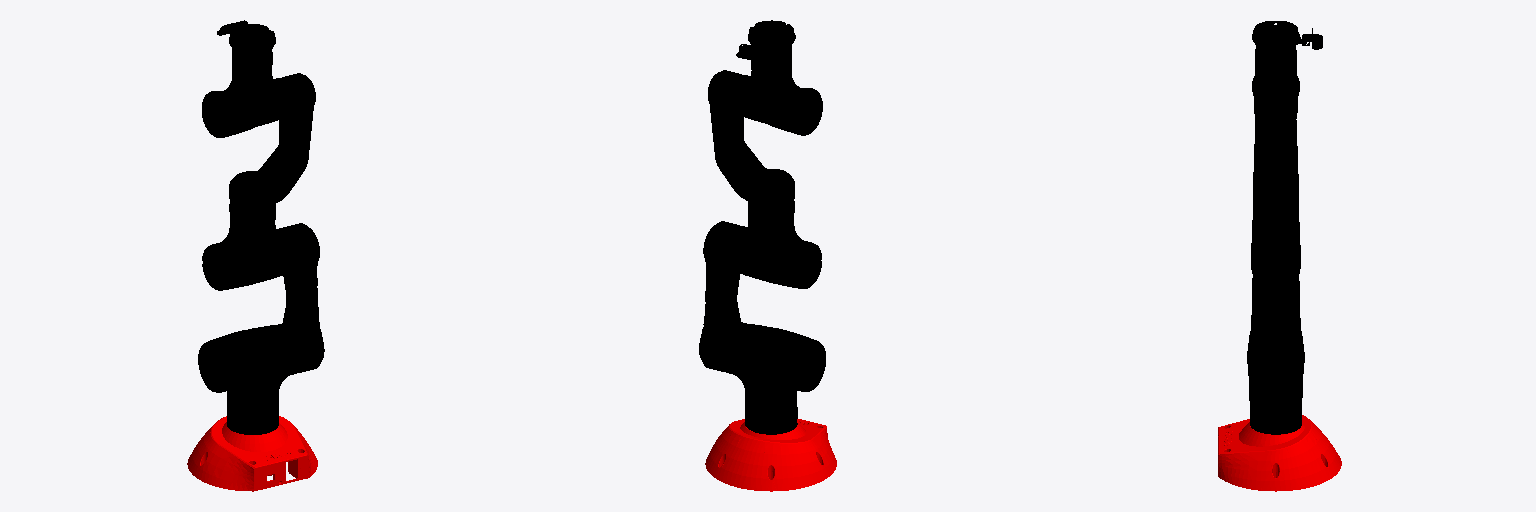
URDF robot description (mara):
<?xml version="1.0" ?>
<!-- =================================================================================== -->
<!-- |    This document was autogenerated by xacro from src/mara/mara_description/urdf/reinforcement_learning/mara_robot_camera_run.urdf.xacro | -->
<!-- |    EDITING THIS FILE BY HAND IS NOT RECOMMENDED                                 | -->
<!-- =================================================================================== -->
<robot name="mara" xmlns:xacro="http://ros.org/wiki/xacro">
  <link name="motor1_link">
    <inertial>
      <origin rpy="0 0 0" xyz="0.02066 0 0.12051"/>
      <mass value="5.6"/>
      <inertia ixx="0.0200769278" ixy="-7.72273E-006" ixz="0.0050158708" iyy="0.0257088151" iyz="5.49229E-006" izz="0.0120821377"/>
    </inertial>
    <visual>
      <origin rpy="0 0 0" xyz="0 0 0"/>
      <geometry>
        <mesh filename="package://mara_description/meshes/MARA_T49.dae" scale="0.001 0.001 0.001"/>
      </geometry>
      <material name="Gazebo/White">
        <color rgba="0. 0. 0. 1"/>
      </material>
    </visual>
    <collision>
      <origin rpy="0 0 0" xyz="0 0 0"/>
      <geometry>
        <mesh filename="package://mara_description/meshes/MARA_T49.dae" scale="0.001 0.001 0.001"/>
      </geometry>
    </collision>
  </link>
  <gazebo reference="motor1_link">
    <material>Gazebo/White</material>
    <selfCollide>True</selfCollide>
  </gazebo>
  <link name="motor1_cover">
    <inertial>
      <origin rpy="0 0 0" xyz="8.625E-08 -4.6583E-06 0.03145"/>
      <mass value="0.0"/>
      <inertia ixx="0.0" ixy="0.0" ixz="0.0" iyy="0.0" iyz="0.0" izz="0.0"/>
    </inertial>
    <visual>
      <origin rpy="0 0 0" xyz="0 0 0"/>
      <geometry>
        <mesh filename="package://mara_description/meshes/MARA_T49_Black.dae" scale="0.001 0.001 0.001"/>
      </geometry>
      <material name="Gazebo/Black">
        <color rgba="0. 0. 0. 1"/>
      </material>
    </visual>
    <collision>
      <origin rpy="0 0 0" xyz="0 0 0"/>
      <geometry>
        <mesh filename="package://mara_description/meshes/MARA_T49_Black.dae" scale="0.001 0.001 0.001"/>
      </geometry>
    </collision>
  </link>
  <gazebo reference="motor1_cover">
    <material>Gazebo/Black</material>
    <selfCollide>True</selfCollide>
  </gazebo>
  <link name="motor2_link">
    <inertial>
      <origin rpy="0 0 0" xyz="-0.01665 0.0 0.09639"/>
      <mass value="1.236"/>
      <inertia ixx="0.0079614839" ixy="0.000000037" ixz="-0.0003203013" iyy="0.007135338" iyz="-0.000001062" izz="0.001111114"/>
    </inertial>
    <visual>
      <origin rpy="0 0 0" xyz="0 0 0"/>
      <geometry>
        <mesh filename="package://mara_description/meshes/MARA_Link1.dae" scale="0.001 0.001 0.001"/>
      </geometry>
      <material name="Gazebo/Black">
        <color rgba="0. 0. 0. 1"/>
      </material>
    </visual>
    <collision>
      <origin rpy="0 0 0" xyz="0 0 0"/>
      <geometry>
        <mesh filename="package://mara_description/meshes/MARA_Link1.dae" scale="0.001 0.001 0.001"/>
      </geometry>
    </collision>
  </link>
  <gazebo reference="motor2_link">
    <material>Gazebo/Black</material>
    <selfCollide>True</selfCollide>
  </gazebo>
  <link name="motor3_link">
    <inertial>
      <origin rpy="0 0 0" xyz="-0.08963 0.0 0.0403"/>
      <mass value="3.95"/>
      <inertia ixx="0.0115136615" ixy="-1.231046E-005" ixz="-0.003148516" iyy="0.0149841676" iyz="-8.81378E-006" izz="0.0070387807"/>
    </inertial>
    <visual>
      <origin rpy="0 0 0" xyz="0 0 0"/>
      <geometry>
        <mesh filename="package://mara_description/meshes/MARA_T30.dae" scale="0.001 0.001 0.001"/>
      </geometry>
      <material name="Gazebo/White">
        <color rgba="0. 0. 0. 1"/>
      </material>
    </visual>
    <collision>
      <origin rpy="0 0 0" xyz="0 0 0"/>
      <geometry>
        <mesh filename="package://mara_description/meshes/MARA_T30.dae" scale="0.001 0.001 0.001"/>
      </geometry>
    </collision>
  </link>
  <gazebo reference="motor3_link">
    <material>Gazebo/White</material>
    <selfCollide>True</selfCollide>
  </gazebo>
  <link name="motor3_cover">
    <inertial>
      <origin rpy="0 0 0" xyz="8.625E-08 -4.6583E-06 0.03145"/>
      <mass value="0.0"/>
      <inertia ixx="0.0" ixy="0.0" ixz="0.0" iyy="0.0" iyz="0.0" izz="0.0"/>
    </inertial>
    <visual>
      <origin rpy="0 0 0" xyz="0 0 0"/>
      <geometry>
        <mesh filename="package://mara_description/meshes/MARA_T30_Black.dae" scale="0.001 0.001 0.001"/>
      </geometry>
      <material name="Gazebo/Black">
        <color rgba="0. 0. 0. 1"/>
      </material>
    </visual>
    <collision>
      <origin rpy="0 0 0" xyz="0 0 0"/>
      <geometry>
        <mesh filename="package://mara_description/meshes/MARA_T30_Black.dae" scale="0.001 0.001 0.001"/>
      </geometry>
    </collision>
  </link>
  <gazebo reference="motor3_cover">
    <material>Gazebo/Black</material>
    <selfCollide>True</selfCollide>
  </gazebo>
  <link name="motor4_link">
    <inertial>
      <origin rpy="0 0 0" xyz="0.06357 0.0 0.05698"/>
      <mass value="1.258"/>
      <inertia ixx="0.005919676" ixy="0.000000923" ixz="0.0022280208" iyy="0.0068807393" iyz="6.1373E-007" izz="0.00257485"/>
    </inertial>
    <visual>
      <origin rpy="0 0 0" xyz="0 0 0"/>
      <geometry>
        <mesh filename="package://mara_description/meshes/MARA_Link2.dae" scale="0.001 0.001 0.001"/>
      </geometry>
      <material name="Gazebo/Black">
        <color rgba="0. 0. 0. 1"/>
      </material>
    </visual>
    <collision>
      <origin rpy="0 0 0" xyz="0 0 0"/>
      <geometry>
        <mesh filename="package://mara_description/meshes/MARA_Link2.dae" scale="0.001 0.001 0.001"/>
      </geometry>
    </collision>
  </link>
  <gazebo reference="motor4_link">
    <material>Gazebo/Black</material>
    <selfCollide>True</selfCollide>
  </gazebo>
  <link name="motor5_link">
    <inertial>
      <origin rpy="0 0 0" xyz="-0.09105 0.0 0.03676"/>
      <mass value="2.85"/>
      <inertia ixx="0.0072829492" ixy="3.77994E-006" ixz="-0.0015682105" iyy="0.0098263499" iyz="2.52745E-006" izz="0.0045615321"/>
    </inertial>
    <visual>
      <origin rpy="0 0 0" xyz="0 0 0"/>
      <geometry>
        <mesh filename="package://mara_description/meshes/MARA_T5.4.dae" scale="0.001 0.001 0.001"/>
      </geometry>
      <material name="Gazebo/White">
        <color rgba="0. 0. 0. 1"/>
      </material>
    </visual>
    <collision>
      <origin rpy="0 0 0" xyz="0 0 0"/>
      <geometry>
        <mesh filename="package://mara_description/meshes/MARA_T5.4.dae" scale="0.001 0.001 0.001"/>
      </geometry>
    </collision>
  </link>
  <gazebo reference="motor5_link">
    <material>Gazebo/White</material>
    <selfCollide>True</selfCollide>
  </gazebo>
  <link name="motor5_cover">
    <inertial>
      <origin rpy="0 0 0" xyz="8.625E-08 -4.6583E-06 0.03145"/>
      <mass value="0.0"/>
      <inertia ixx="0.0" ixy="0.0" ixz="0.0" iyy="0.0" iyz="0.0" izz="0.0"/>
    </inertial>
    <visual>
      <origin rpy="0 0 0" xyz="0 0 0"/>
      <geometry>
        <mesh filename="package://mara_description/meshes/MARA_T5.4_black.dae" scale="0.001 0.001 0.001"/>
      </geometry>
      <material name="Gazebo/Black">
        <color rgba="0. 0. 0. 1"/>
      </material>
    </visual>
    <collision>
      <origin rpy="0 0 0" xyz="0 0 0"/>
      <geometry>
        <mesh filename="package://mara_description/meshes/MARA_T5.4_black.dae" scale="0.001 0.001 0.001"/>
      </geometry>
    </collision>
  </link>
  <gazebo reference="motor5_cover">
    <material>Gazebo/Black</material>
    <selfCollide>True</selfCollide>
  </gazebo>
  <link name="motor6_link">
    <inertial>
      <origin rpy="0 0 0" xyz="0 0 0"/>
      <mass value="0.00001"/>
      <inertia ixx="0" ixy="0" ixz="0" iyy="0" iyz="0" izz="0"/>
    </inertial>
    <visual>
      <origin rpy="0 0 0" xyz="0 0 0"/>
      <geometry>
        <sphere radius="0"/>
      </geometry>
    </visual>
    <collision>
      <origin rpy="0 0 0" xyz="0 0 0"/>
      <geometry>
        <sphere radius="0"/>
      </geometry>
    </collision>
  </link>
  <link name="ee_link">
    <!-- <visual>
        <geometry>
          <sphere radius="0.01"/>
        </geometry>
        <material name="Gazebo/Grey">
          <color rgba="0. 0. 0. 1"/>
        </material>
      </visual> -->
  </link>
  <gazebo reference="ee_link">
    <material>Gazebo/Blue</material>
    <selfCollide>False</selfCollide>
  </gazebo>
  <joint name="motor1_cover_joint" type="fixed">
    <origin rpy="0 0 0" xyz="0 0 0.0"/>
    <parent link="motor1_link"/>
    <child link="motor1_cover"/>
  </joint>
  <joint name="motor2" type="revolute">
    <origin rpy="0 0 0" xyz="0.118 0 0.1637"/>
    <parent link="motor1_link"/>
    <child link="motor2_link"/>
    <axis xyz="1 0 0"/>
    <limit effort="104.0" lower="-2.35" upper="2.35" velocity="1.57"/>
    <dynamics damping="0" friction="0"/>
  </joint>
  <joint name="motor3" type="revolute">
    <origin rpy="0 0 0" xyz="-0.009 0 0.2"/>
    <parent link="motor2_link"/>
    <child link="motor3_link"/>
    <axis xyz="-1 0 0"/>
    <limit effort="69" lower="-2.61" upper="2.61" velocity="1.57"/>
    <dynamics damping="0" friction="0"/>
  </joint>
  <joint name="motor3_cover_joint" type="fixed">
    <origin rpy="0 0 0" xyz="0 0 0.0"/>
    <parent link="motor3_link"/>
    <child link="motor3_cover"/>
  </joint>
  <joint name="motor4" type="revolute">
    <origin rpy="0 0 0" xyz="-0.109255 0 0.149255"/>
    <parent link="motor3_link"/>
    <child link="motor4_link"/>
    <axis xyz="0 0 1"/>
    <limit effort="69" lower="-3.14" upper="3.14" velocity="1.57"/>
    <dynamics damping="0" friction="0"/>
  </joint>
  <joint name="motor5" type="revolute">
    <origin rpy="0 0 0" xyz="0.1054570 0 0.16074"/>
    <parent link="motor4_link"/>
    <child link="motor5_link"/>
    <axis xyz="-1 0 0"/>
    <limit effort="34" lower="-2.56" upper="2.56" velocity="1.57"/>
    <dynamics damping="0" friction="0"/>
  </joint>
  <joint name="motor5_cover_joint" type="fixed">
    <origin rpy="0 0 0" xyz="0 0 0.0"/>
    <parent link="motor5_link"/>
    <child link="motor5_cover"/>
  </joint>
  <joint name="motor6" type="revolute">
    <origin rpy="0 0 0" xyz="-0.10625569 0 0.14675569"/>
    <parent link="motor5_link"/>
    <child link="motor6_link"/>
    <axis xyz="0 0 1"/>
    <limit effort="34" lower="-3.14" upper="3.14" velocity="1.57"/>
    <dynamics damping="0" friction="0"/>
  </joint>
  <joint name="ee_link" type="fixed">
    <origin rpy="0 -1.57 0" xyz="0 0.0 0.0"/>
    <!-- 0.24 -->
    <parent link="motor6_link"/>
    <child link="ee_link"/>
  </joint>
  <link name="tool0"/>
  <joint name="motor6_link-tool0_fixed_joint" type="fixed">
    <origin rpy="0 -1.57 0" xyz="0 0.0 0.0"/>
    <parent link="motor6_link"/>
    <child link="tool0"/>
  </joint>
  <transmission name="shoulder_pan_trans">
    <type>transmission_interface/SimpleTransmission</type>
    <joint name="motor1">
      <hardwareInterface>hardware_interface/PositionJointInterface</hardwareInterface>
    </joint>
    <actuator name="shoulder_pan_motor">
      <mechanicalReduction>1</mechanicalReduction>
    </actuator>
  </transmission>
  <transmission name="shoulder_lift_trans">
    <type>transmission_interface/SimpleTransmission</type>
    <joint name="motor2">
      <hardwareInterface>hardware_interface/PositionJointInterface</hardwareInterface>
    </joint>
    <actuator name="shoulder_lift_motor">
      <mechanicalReduction>1</mechanicalReduction>
    </actuator>
  </transmission>
  <transmission name="elbow_trans">
    <type>transmission_interface/SimpleTransmission</type>
    <joint name="motor3">
      <hardwareInterface>hardware_interface/PositionJointInterface</hardwareInterface>
    </joint>
    <actuator name="elbow_motor">
      <mechanicalReduction>1</mechanicalReduction>
    </actuator>
  </transmission>
  <transmission name="wrist_1_trans">
    <type>transmission_interface/SimpleTransmission</type>
    <joint name="motor4">
      <hardwareInterface>hardware_interface/PositionJointInterface</hardwareInterface>
    </joint>
    <actuator name="wrist_1_motor">
      <mechanicalReduction>1</mechanicalReduction>
    </actuator>
  </transmission>
  <transmission name="wrist_2_trans">
    <type>transmission_interface/SimpleTransmission</type>
    <joint name="motor5">
      <hardwareInterface>hardware_interface/PositionJointInterface</hardwareInterface>
    </joint>
    <actuator name="wrist_2_motor">
      <mechanicalReduction>1</mechanicalReduction>
    </actuator>
  </transmission>
  <transmission name="wrist_3_trans">
    <type>transmission_interface/SimpleTransmission</type>
    <joint name="motor6">
      <hardwareInterface>hardware_interface/PositionJointInterface</hardwareInterface>
    </joint>
    <actuator name="wrist_3_motor">
      <mechanicalReduction>1</mechanicalReduction>
    </actuator>
  </transmission>
  <gazebo>
    <plugin filename="libgazebo_ros_joint_state_publisher.so" name="mara_joint_state">
      <ros>
        <argument>~/out:=joint_states</argument>
      </ros>
      <update_rate>25</update_rate>
      <joint_name>motor1</joint_name>
      <joint_name>motor2</joint_name>
      <joint_name>motor3</joint_name>
      <joint_name>motor4</joint_name>
      <joint_name>motor5</joint_name>
      <joint_name>motor6</joint_name>
      <joint_name>joint_finger</joint_name>
    </plugin>
    <plugin filename="libmara_gazebo_joint_plugin.so" name="hrim_actuation_servomotor_000000000001">
      <ros/>
      <axis1>motor2</axis1>
      <axis2>motor1</axis2>
      <type>series14</type>
    </plugin>
    <plugin filename="libmara_gazebo_joint_plugin.so" name="hrim_actuation_servomotor_000000000002">
      <ros/>
      <axis1>motor3</axis1>
      <axis2>motor4</axis2>
      <type>series17</type>
    </plugin>
    <plugin filename="libmara_gazebo_joint_plugin.so" name="hrim_actuation_servomotor_000000000003">
      <ros/>
      <axis1>motor5</axis1>
      <axis2>motor6</axis2>
      <type>series20</type>
    </plugin>
  </gazebo>
  <link name="mara_gripper_adapter">
    <inertial>
      <origin rpy="0 0 0" xyz="8.625E-08 -4.6583E-06 0.03145"/>
      <mass value="0.13969"/>
      <inertia ixx="91283.23E-9" ixy="634.87E-9" ixz="-0.02E-9" iyy="97239.94E-9" iyz="93.72E-9" izz="175963.64E-9"/>
    </inertial>
    <visual>
      <origin rpy="0 0 0" xyz="0 0 0"/>
      <geometry>
        <mesh filename="package://mara_description/meshes/gripper_adapter.dae" scale="0.001 0.001 0.001"/>
      </geometry>
      <material name="Gazebo/Wood">
        <color rgba="0. 0. 0. 1"/>
      </material>
    </visual>
    <collision>
      <origin rpy="0 0 0" xyz="0 0 0"/>
      <geometry>
        <mesh filename="package://mara_description/meshes/gripper_adapter.dae" scale="0.001 0.001 0.001"/>
      </geometry>
    </collision>
  </link>
  <gazebo reference="mara_gripper_adapter">
    <material>Gazebo/Black</material>
    <selfCollide>True</selfCollide>
  </gazebo>
  <link name="mara_camera_support1_link">
    <inertial>
      <origin rpy="0 0 0" xyz="8.625E-08 -4.6583E-06 0.03145"/>
      <mass value="0.00361"/>
      <inertia ixx="266.47E-9" ixy="0.0" ixz="0.0" iyy="115.40E-9" iyz="-0.40E-9" izz="233.53E-9"/>
    </inertial>
    <visual>
      <origin rpy="0 0 0" xyz="0 0 0"/>
      <geometry>
        <mesh filename="package://mara_description/meshes/Camera_Support_1.dae" scale="0.001 0.001 0.001"/>
      </geometry>
      <material name="Gazebo/Wood">
        <color rgba="0. 0. 0. 1"/>
      </material>
    </visual>
    <collision>
      <origin rpy="0 0 0" xyz="0 0 0"/>
      <geometry>
        <mesh filename="package://mara_description/meshes/Camera_Support_1.dae" scale="0.001 0.001 0.001"/>
      </geometry>
    </collision>
  </link>
  <gazebo reference="mara_camera_support1_link">
    <material>Gazebo/Black</material>
    <selfCollide>True</selfCollide>
  </gazebo>
  <link name="mara_camera_support2_link">
    <inertial>
      <origin rpy="0 0 0" xyz="8.625E-08 -4.6583E-06 0.03145"/>
      <mass value="0.00676"/>
      <inertia ixx="584.80E-9" ixy="28.57E-9" ixz="-2.42E-9" iyy="1930.29E-9" iyz="-140.62E-9" izz="2077.50E-9"/>
    </inertial>
    <visual>
      <origin rpy="0 0 0" xyz="0 0 0"/>
      <geometry>
        <mesh filename="package://mara_description/meshes/Camera_Support_2.dae" scale="0.001 0.001 0.001"/>
      </geometry>
      <material name="Gazebo/Wood">
        <color rgba="0. 0. 0. 1"/>
      </material>
    </visual>
    <collision>
      <origin rpy="0 0 0" xyz="0 0 0"/>
      <geometry>
        <mesh filename="package://mara_description/meshes/Camera_Support_2.dae" scale="0.001 0.001 0.001"/>
      </geometry>
    </collision>
  </link>
  <gazebo reference="mara_camera_support2_link">
    <material>Gazebo/Black</material>
    <selfCollide>True</selfCollide>
  </gazebo>
  <joint name="gripper_adapter_to_camera_support1" type="fixed">
    <origin rpy="0 0 0" xyz="0 0.03956 -0.00213"/>
    <parent link="mara_gripper_adapter"/>
    <child link="mara_camera_support1_link"/>
  </joint>
  <joint name="camera_support1_to_support2" type="fixed">
    <origin rpy="0 0 0" xyz="0 0.01029 -0.00128"/>
    <parent link="mara_camera_support1_link"/>
    <child link="mara_camera_support2_link"/>
  </joint>
  <link name="camera_link">
    <inertial>
      <origin rpy="0 0 0" xyz="8.625E-08 -4.6583E-06 0.03145"/>
      <mass value="0.07397"/>
      <inertia ixx="6975.32E-9" ixy="287.18E-9" ixz="25.68E-9" iyy="47975.37E-9" iyz="-25.58E-9" izz="48114.25E-9"/>
    </inertial>
    <visual>
      <origin rpy="0 0 0" xyz="0 0 0"/>
      <geometry>
        <mesh filename="package://mara_description/meshes/Intel_RealSense_Depth_Camera_D435.dae" scale="0.001 0.001 0.001"/>
      </geometry>
      <material name="aluminum">
        <color rgba="0.5 0.5 0.5 1"/>
      </material>
    </visual>
    <collision>
      <origin rpy="0 0 0" xyz="0 0 0"/>
      <geometry>
        <mesh filename="package://mara_description/meshes/Intel_RealSense_Depth_Camera_D435.dae" scale="0.001 0.001 0.001"/>
      </geometry>
    </collision>
  </link>
  <gazebo reference="camera_link">
    <material>Gazebo/Grey</material>
    <selfCollide>True</selfCollide>
  </gazebo>
  <link name="camera_right_depth"/>
  <link name="camera_ir_projector"/>
  <link name="camera_left_depth"/>
  <link name="camera_color"/>
  <gazebo reference="camera_color">
    <sensor name="sensor_camera" type="camera">
      <alwaysOn>true</alwaysOn>
      <!-- <visualize>true</visualize> -->
      <camera>
        <image>
          <width>640</width>
          <height>480</height>
          <format>R8G8B8</format>
        </image>
      </camera>
      <plugin filename="libgazebo_ros_camera.so" name="gazebo_plugins">
        <ros>
          <namespace>rs_camera</namespace>
          <argument>image_raw:=custom_img</argument>
          <argument>camera_info:=custom_info</argument>
        </ros>
        <camera_name>rs_d435</camera_name>
        <frame_name>rs_camera_frame</frame_name>
        <hack_baseline>0.07</hack_baseline>
      </plugin>
    </sensor>
  </gazebo>
  <joint name="camera_to_right_depth" type="fixed">
    <origin rpy="0 0 0" xyz="0.0325 0.024 0.0"/>
    <parent link="camera_link"/>
    <child link="camera_right_depth"/>
  </joint>
  <joint name="camera_to_ir_projector" type="fixed">
    <origin rpy="0 0 0" xyz="0.0115 0.0214 0.0"/>
    <parent link="camera_link"/>
    <child link="camera_ir_projector"/>
  </joint>
  <joint name="camera_to_left_depth" type="fixed">
    <origin rpy="0 0 0" xyz="-0.0175 0.024 0.0"/>
    <parent link="camera_link"/>
    <child link="camera_left_depth"/>
  </joint>
  <joint name="camera_to_color" type="fixed">
    <origin rpy="0.0 0.0 1.57" xyz="-0.0325 0.0214 0.0"/>
    <parent link="camera_link"/>
    <child link="camera_color"/>
  </joint>
  <link name="world"/>
  <link name="base_robot">
    <inertial>
      <origin rpy="0 0 0" xyz="8.625E-08 -4.6583E-06 0.03145"/>
      <mass value="7.033"/>
      <inertia ixx="0.1478344" ixy="0.00001" ixz="0.0" iyy="0.14782335" iyz="0.0" izz="0.29471799"/>
    </inertial>
    <visual>
      <origin rpy="0 0 0" xyz="0 0 0"/>
      <geometry>
        <mesh filename="package://mara_description/meshes/Base.dae" scale="0.001 0.001 0.001"/>
      </geometry>
      <material name="Gazebo/Black">
        <color rgba="1. 0. 0. 1.0"/>
      </material>
    </visual>
    <collision>
      <origin rpy="0 0 0" xyz="0 0 0"/>
      <geometry>
        <mesh filename="package://mara_description/meshes/Base.dae" scale="0.001 0.001 0.001"/>
      </geometry>
    </collision>
  </link>
  <gazebo reference="base_robot">
    <material>Gazebo/Black</material>
    <selfCollide>True</selfCollide>
  </gazebo>
  <joint name="world_to_base_joint" type="fixed">
    <origin rpy="0 0 0" xyz="0 0 0"/>
    <parent link="world"/>
    <child link="base_robot"/>
  </joint>
  <joint name="motor1" type="revolute">
    <origin rpy="0 0 0" xyz="0 0 0.05122"/>
    <parent link="base_robot"/>
    <child link="motor1_link"/>
    <axis xyz="0 0 1"/>
    <limit effort="104.0" lower="-3.1416" upper="3.1416" velocity="1.57"/>
    <dynamics damping="0" friction="0"/>
  </joint>
  <joint name="motor6_to_gripper_adapter" type="fixed">
    <origin rpy="0 0 0" xyz="0 0 -0.02026"/>
    <parent link="motor6_link"/>
    <child link="mara_gripper_adapter"/>
  </joint>
  <joint name="camera_support2_to_camera" type="fixed">
    <origin rpy="0 0 0" xyz="0 0.018 0.012"/>
    <parent link="mara_camera_support2_link"/>
    <child link="camera_link"/>
  </joint>
</robot>

--- What the picture shows (computed from the rendered views, not written in the file) ---
The picture shows the robot from 3 angles, left to right: view 1: azimuth 30°, elevation 25°; view 2: azimuth 150°, elevation 25°; view 3: azimuth 270°, elevation 25°; orthographic projection.
Robot: mara — 21 links, 20 joints (6 revolute, 14 fixed); root link world; default pose: all joints at 0.
Links seen in each view (by area): view 1: base_robot, motor1_link, motor4_link, motor3_link, motor5_link, motor2_link, motor1_cover, motor5_cover, motor3_cover, mara_gripper_adapter; view 2: base_robot, motor1_link, motor4_link, motor3_link, motor2_link, motor5_link, motor1_cover, motor3_cover, motor5_cover, mara_gripper_adapter; view 3: motor2_link, base_robot, motor4_link, motor3_link, motor5_link, motor1_link, mara_gripper_adapter.
Boxes of the visible links, <box> form: base_robot: <box>187,416,317,491</box>; motor1_link: <box>227,323,302,429</box>; motor4_link: <box>229,73,315,208</box>; motor3_link: <box>220,203,296,283</box>; motor5_link: <box>223,29,292,126</box>; motor2_link: <box>283,223,324,371</box>; motor1_cover: <box>198,322,307,434</box>; motor5_cover: <box>202,31,298,137</box>; motor3_cover: <box>202,202,301,290</box>; mara_gripper_adapter: <box>229,24,275,54</box>; base_robot: <box>705,419,836,491</box>; motor1_link: <box>721,322,797,428</box>; motor4_link: <box>708,70,794,206</box>; motor3_link: <box>727,201,803,281</box>; motor2_link: <box>699,221,740,371</box>; motor5_link: <box>730,25,800,124</box>; motor1_cover: <box>715,320,825,434</box>; motor3_cover: <box>721,197,821,288</box>; motor5_cover: <box>725,26,822,135</box>; mara_gripper_adapter: <box>748,20,795,51</box>; motor2_link: <box>1250,255,1301,407</box>; base_robot: <box>1218,415,1341,491</box>; motor4_link: <box>1253,102,1298,204</box>; motor3_link: <box>1251,204,1300,273</box>; motor5_link: <box>1254,26,1297,118</box>; motor1_link: <box>1247,340,1304,428</box>; mara_gripper_adapter: <box>1252,21,1299,51</box>.
Size in the robot's own frame: 0.2499 by 0.2247 by 0.8722 metres.
Meshes: 13 distinct files referenced, 12 mesh visuals loaded (12 Collada DAE); not drawn: 1 (reference not matched to a file when rendering).
